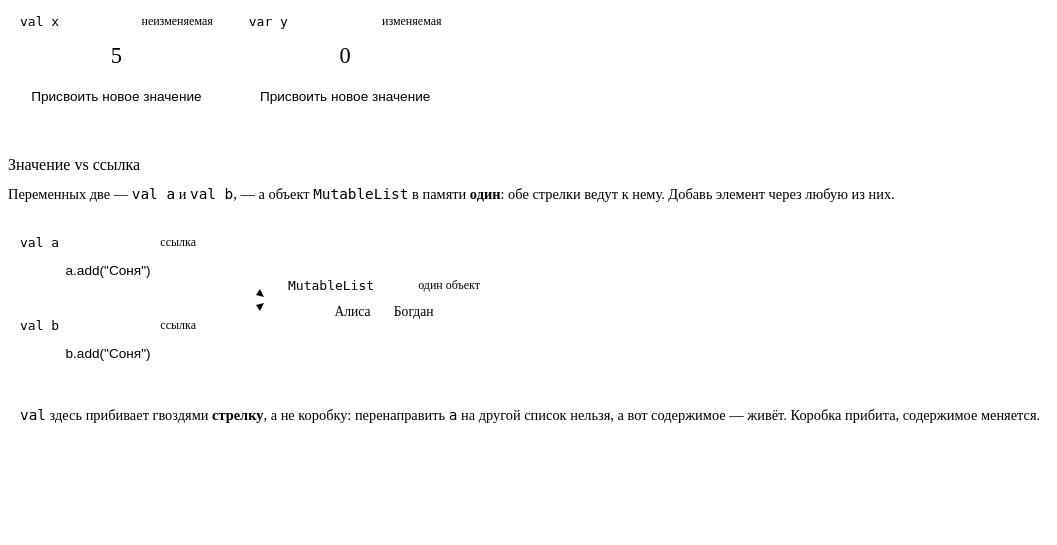
it: assigning to val shows the real compiler error, value stays
Click the button "Присвоить новое значение" below "val x" at (116,96), box [20,84,213,108]
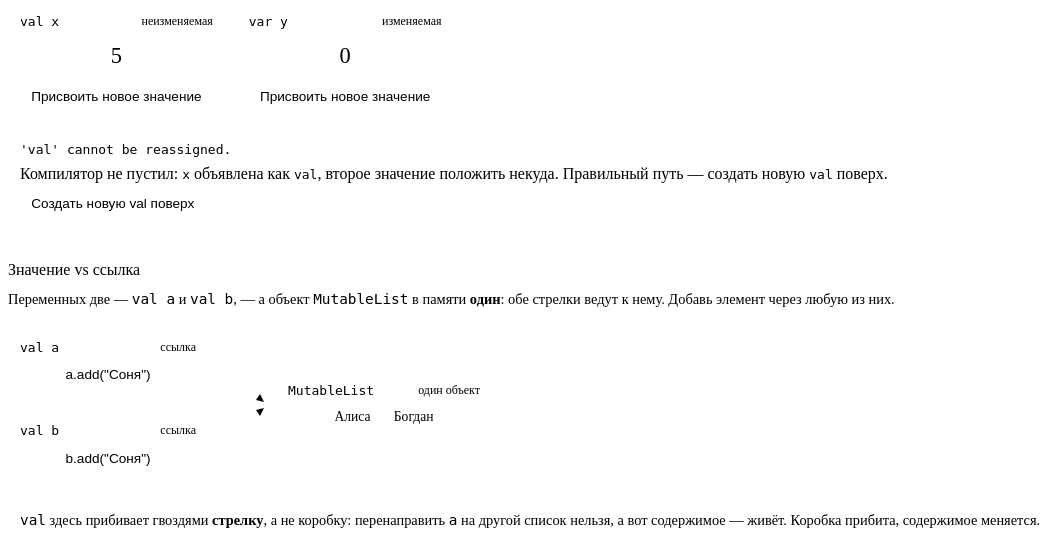
Expected: the text "5" is shown, [111,43,122,68]
Now the text "'val' cannot be reassigned." is shown, box [20,142,231,157]
Now the button "Создать новую val поверх" is shown, box [20,191,206,216]
